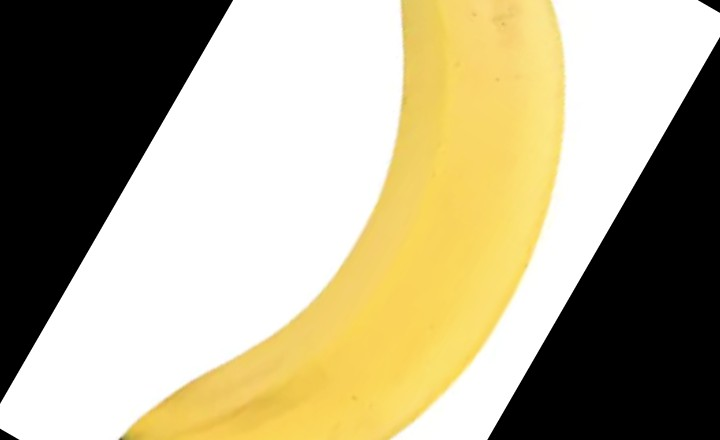fresh_banana: (121, 1, 566, 440)
